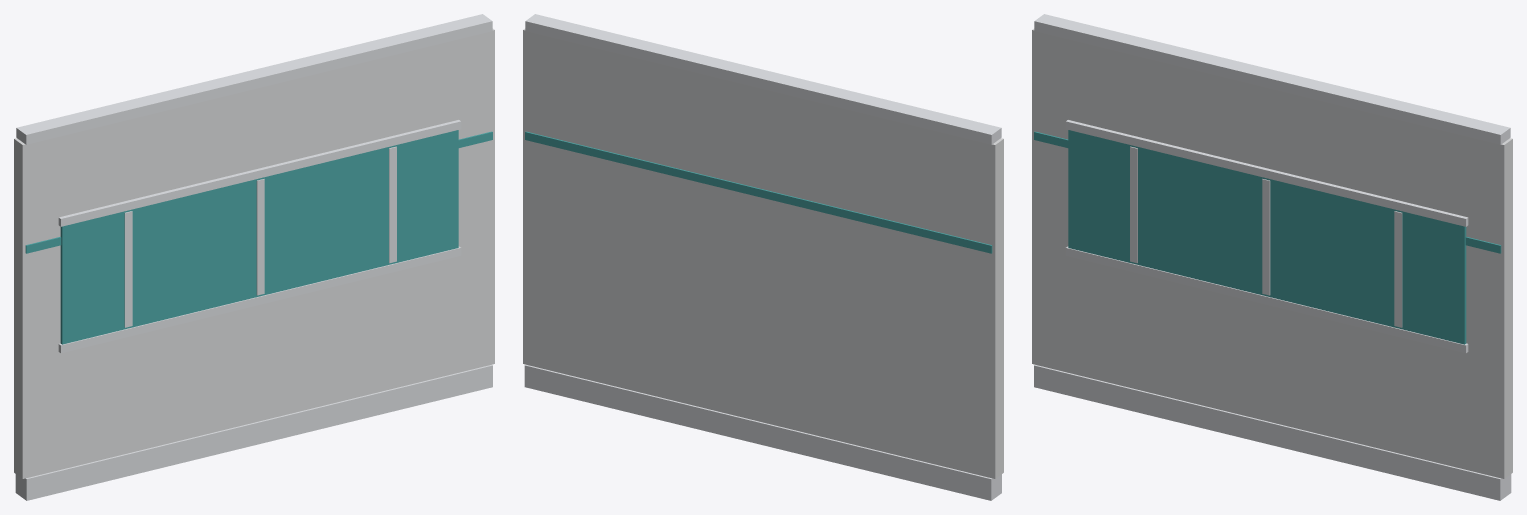
Rendered from chocolate-and-confectionery-factory-factory-wall-windo-06ed8ffd__36806.glb.
3 views of the same model, side by side, from view 1: azimuth 30°, elevation 25°; view 2: azimuth 150°, elevation 25°; view 3: azimuth 330°, elevation 25° (orthographic).
Visible parts, largest first — view 1: factory-wall-window-panel; view 2: factory-wall-window-panel; view 3: factory-wall-window-panel.
Part boxes in pixels (x1=…): factory-wall-window-panel: x1=14, y1=14, x2=494, y2=500; factory-wall-window-panel: x1=523, y1=14, x2=1003, y2=500; factory-wall-window-panel: x1=1032, y1=14, x2=1512, y2=500.
Size of the model in its own units: 5 by 3.7 by 0.2201.
